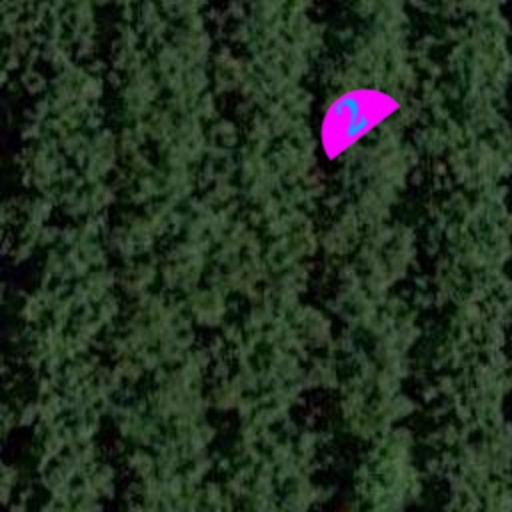semicircle: (290, 54, 414, 178)
